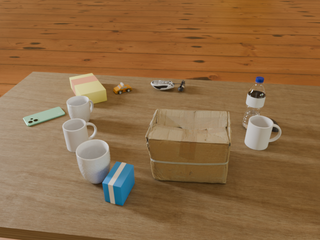bottle: (242, 77, 266, 129)
box: (146, 109, 232, 184), (103, 162, 135, 205), (70, 73, 107, 104)
cup: (76, 140, 110, 184), (245, 115, 281, 150), (63, 118, 97, 152), (67, 95, 93, 122)
mouse: (151, 80, 175, 90), (269, 118, 279, 132)
phone: (23, 107, 65, 126)
toy_car: (113, 83, 132, 94)
